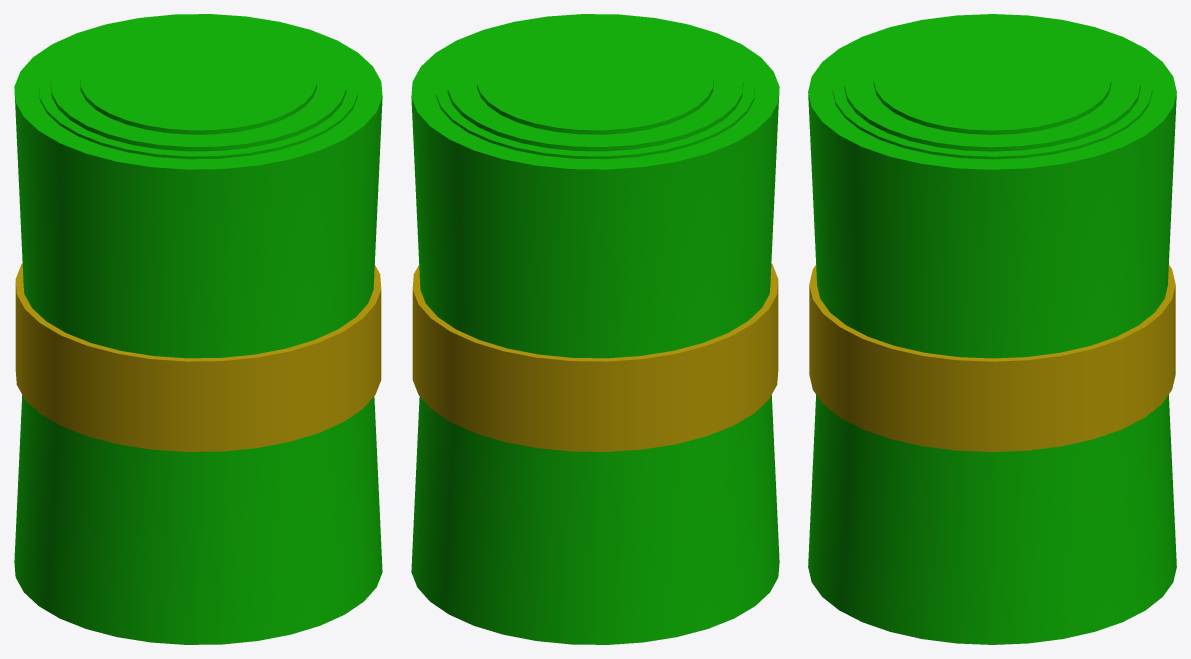
The model's file is money.fbx.
3 renders of one model, left to right at view 1: azimuth 30°, elevation 25°; view 2: azimuth 150°, elevation 25°; view 3: azimuth 270°, elevation 25°, orthographic.
Parts seen in each view (by area): view 1: Cylinder.005; view 2: Cylinder.005; view 3: Cylinder.005.
Part boxes in pixels (box(x1,y1,x2,y2)): Cylinder.005: box(14, 14, 382, 644); Cylinder.005: box(411, 14, 779, 644); Cylinder.005: box(808, 14, 1176, 644).
Size of the model in its own units: 1.06 by 1.57 by 1.06.
